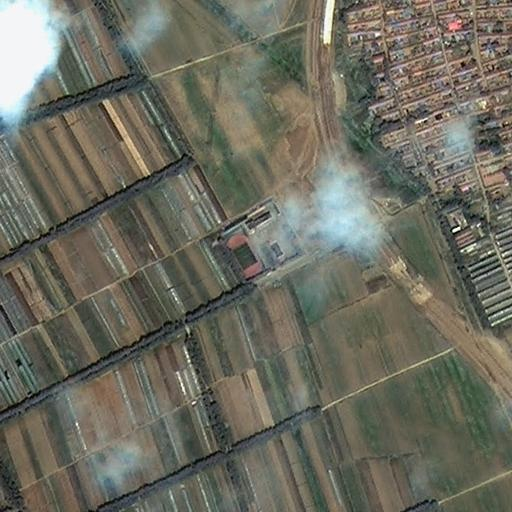school: (220, 197, 302, 281)
